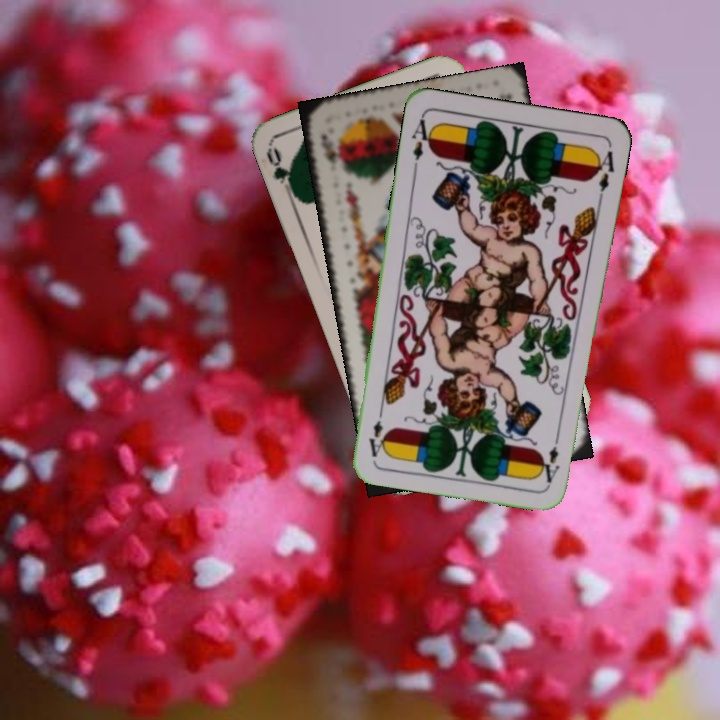EA: (407, 112, 437, 172), (542, 428, 563, 486)
GO: (262, 143, 297, 201)
SK: (317, 130, 342, 166)
